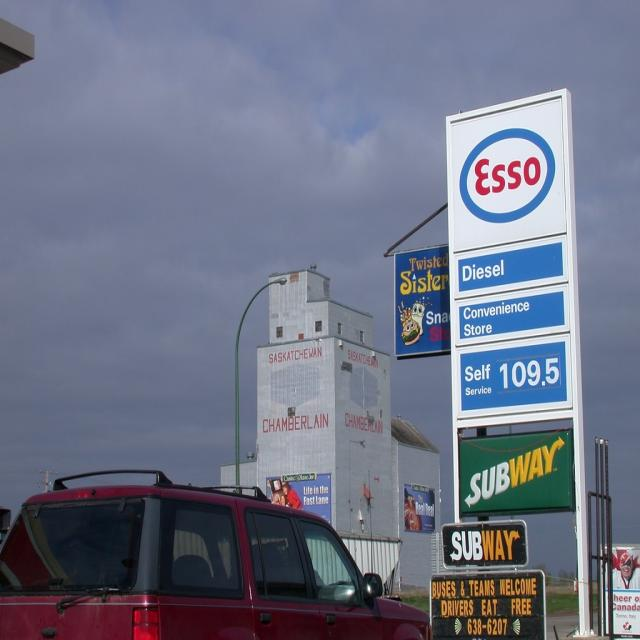esso: (457, 125, 562, 228)
